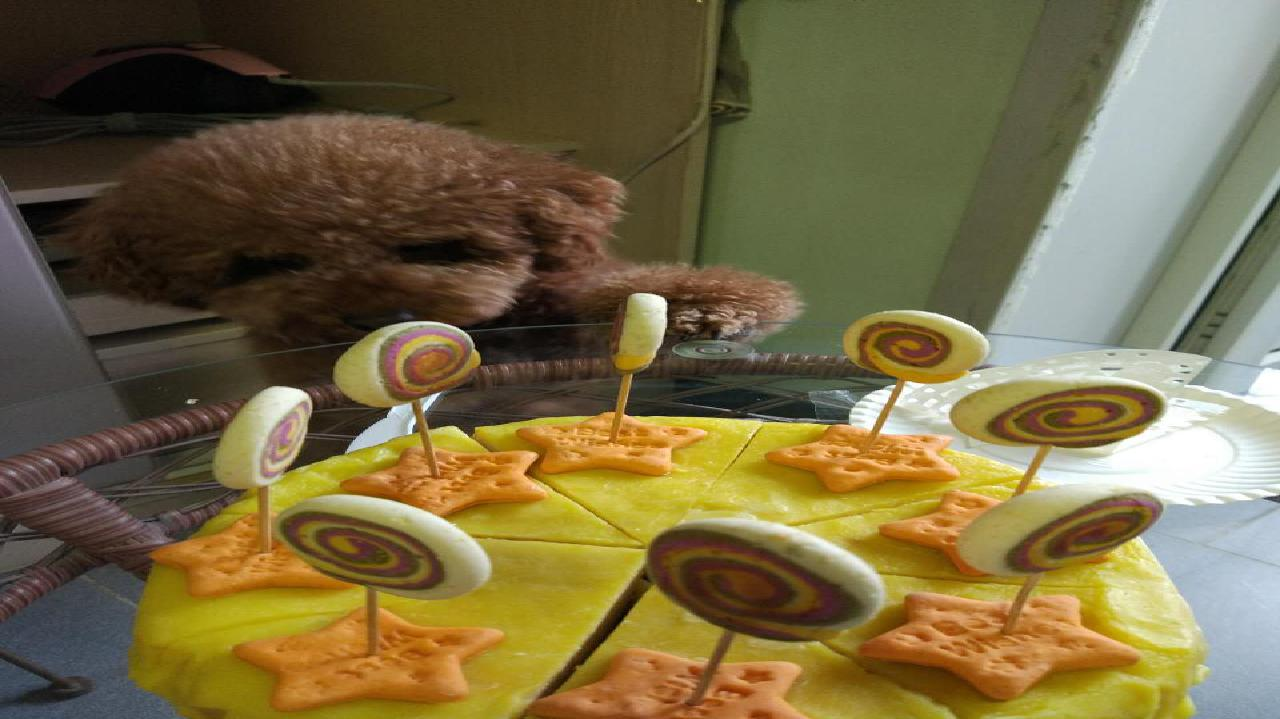zhuangzhuang: (88, 105, 800, 371)
